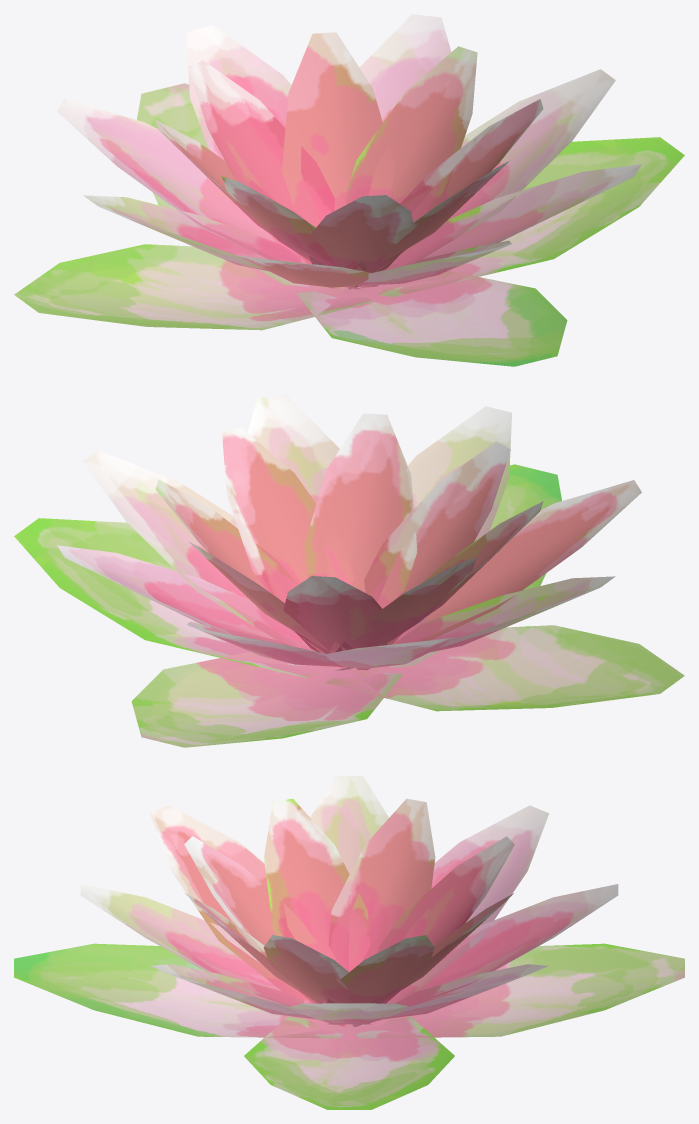
Rendered from water lily.fbx.
3 renders of one model, top to bottom at view 1: azimuth 30°, elevation 25°; view 2: azimuth 150°, elevation 25°; view 3: azimuth 270°, elevation 25°, orthographic. The views are drawn at different scales.
Visible parts, largest first — view 1: Lily; view 2: Lily; view 3: Lily.
Boxes of the visible parts, x1=… form: Lily: x1=14, y1=14, x2=684, y2=366; Lily: x1=14, y1=395, x2=684, y2=747; Lily: x1=14, y1=776, x2=684, y2=1109.
Size of the model in its own units: 154 by 38.54 by 154.
